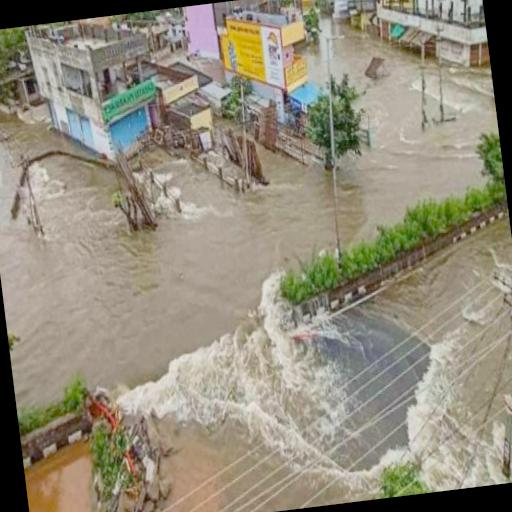flood: (0, 54, 512, 512), (123, 66, 499, 373), (19, 158, 127, 234), (310, 20, 419, 84), (429, 73, 445, 138)
house: (30, 22, 146, 171), (215, 0, 316, 117), (383, 0, 490, 74)
